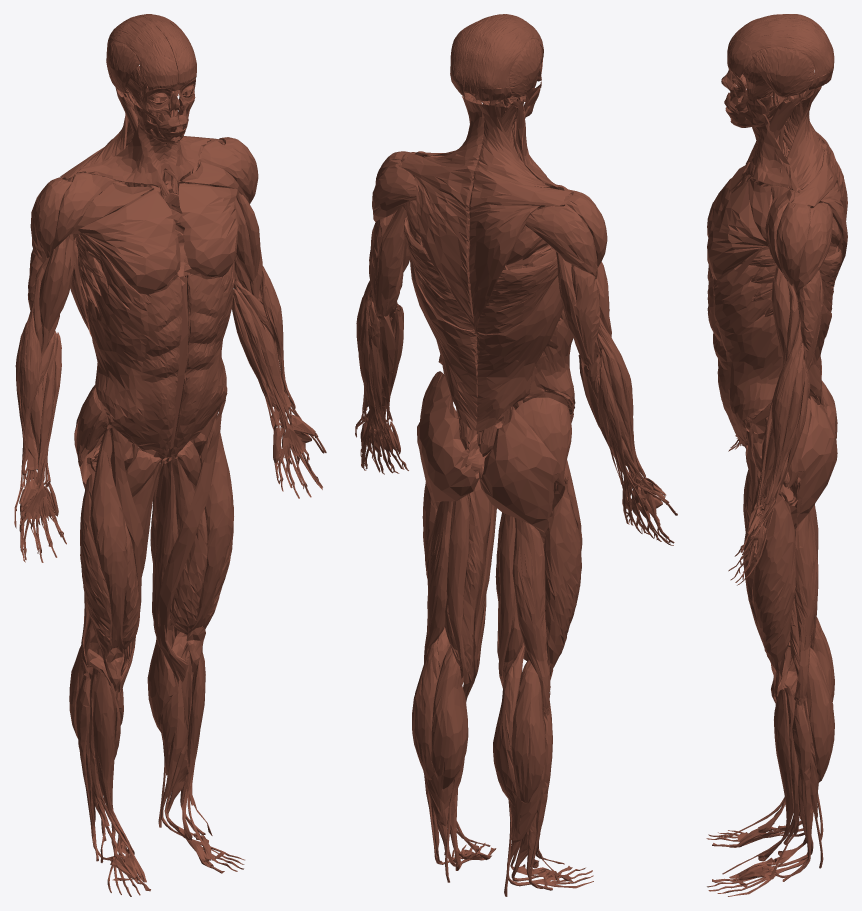
Rendered from body-muscles.glb.
3 renders of one model, left to right at view 1: azimuth 30°, elevation 25°; view 2: azimuth 150°, elevation 25°; view 3: azimuth 270°, elevation 25°, orthographic. The views are drawn at different scales.
Visible parts, largest first — view 1: External abdominal oblique muscle.012, External abdominal oblique muscle, Sternocostal head of pectoralis major muscle.007, Rectus femoris muscle.001, Sternocostal head of pectoralis major muscle.006, Rectus femoris muscle, Sartorius muscle, Vastus lateralis muscle.003, Platysma.001, Vastus medialis muscle, Gracilis muscle.002, Tibialis anterior muscle.007 (+44 smaller); view 2: Latissimus dorsi muscle.005, Gluteus maximus muscle.005, Latissimus dorsi muscle.002, Vastus lateralis muscle.003, Descending part of trapezius muscle, Long head of biceps femoris.003, Descending part of trapezius muscle.003, Gluteus maximus muscle.002, Medial head of gastrocnemius, Lateral head of gastrocnemius.003, Epicranial aponeurosis.001, Scapular spinal part of deltoid muscle.003 (+35 smaller); view 3: External abdominal oblique muscle, Vastus lateralis muscle, Sternocostal head of pectoralis major muscle.006, Gluteus maximus muscle.002, Long head of biceps femoris, Epicranial aponeurosis, Lateral head of gastrocnemius, Temporoparietalis muscle, Platysma, Brachioradialis muscle.002, Acromial part of deltoid muscle, Scapular spinal part of deltoid muscle (+35 smaller).
Part boxes in pixels (x1,y1,x2,y2): External abdominal oblique muscle.012: [86, 260, 182, 450]; External abdominal oblique muscle: [176, 261, 234, 447]; Sternocostal head of pectoralis major muscle.007: [70, 189, 180, 294]; Rectus femoris muscle.001: [90, 429, 127, 691]; Sternocostal head of pectoralis major muscle.006: [178, 183, 239, 276]; Rectus femoris muscle: [186, 418, 233, 672]; Sartorius muscle: [158, 398, 225, 682]; Vastus lateralis muscle.003: [80, 472, 112, 683]; Platysma.001: [78, 118, 176, 187]; Vastus medialis muscle: [169, 509, 207, 656]; Gracilis muscle.002: [152, 458, 179, 683]; Tibialis anterior muscle.007: [93, 672, 134, 854]; Latissimus dorsi muscle.005: [475, 256, 563, 431]; Gluteus maximus muscle.005: [479, 410, 559, 537]; Latissimus dorsi muscle.002: [404, 216, 477, 430]; Vastus lateralis muscle.003: [543, 484, 581, 676]; Descending part of trapezius muscle: [414, 175, 476, 332]; Long head of biceps femoris.003: [512, 518, 550, 708]; Descending part of trapezius muscle.003: [469, 204, 545, 333]; Gluteus maximus muscle.002: [417, 394, 479, 509]; Medial head of gastrocnemius: [431, 645, 468, 789]; Lateral head of gastrocnemius.003: [511, 665, 545, 803]; Epicranial aponeurosis.001: [470, 15, 539, 95]; Scapular spinal part of deltoid muscle.003: [525, 204, 597, 279]; External abdominal oblique muscle: [707, 264, 783, 445]; Vastus lateralis muscle: [752, 495, 795, 696]; Sternocostal head of pectoralis major muscle.006: [707, 181, 768, 280]; Gluteus maximus muscle.002: [790, 396, 837, 529]; Long head of biceps femoris: [794, 512, 818, 699]; Epicranial aponeurosis: [731, 18, 834, 78]; Lateral head of gastrocnemius: [806, 653, 834, 782]; Temporoparietalis muscle: [752, 46, 814, 97]; Platysma: [730, 114, 798, 192]; Brachioradialis muscle.002: [764, 317, 802, 505]; Acromial part of deltoid muscle: [776, 202, 810, 285]; Scapular spinal part of deltoid muscle: [793, 203, 832, 293].
Size of the model in its own units: 0.6595 by 1.7 by 0.2582.
